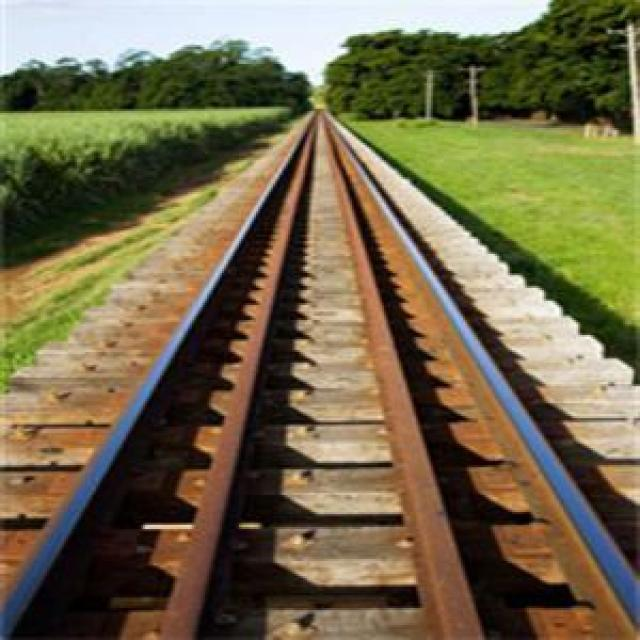rail: (0, 106, 640, 636)
